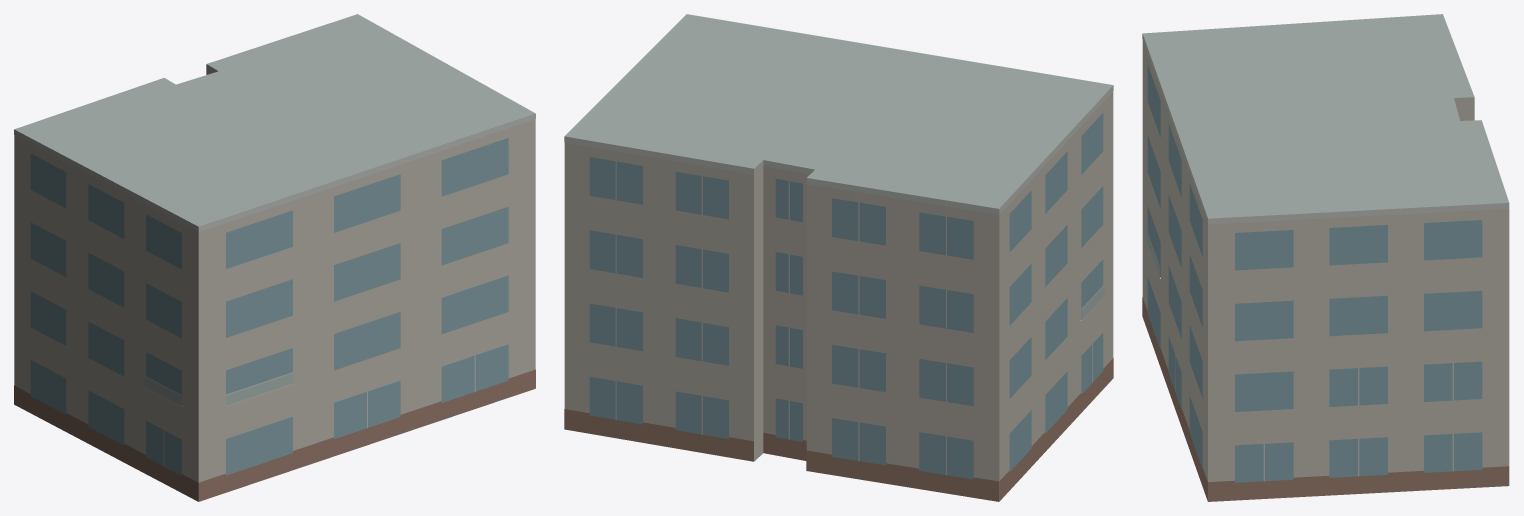
The model's file is survey-upis-32576958.glb.
3 views of the same model, side by side, from view 1: azimuth 30°, elevation 25°; view 2: azimuth 150°, elevation 25°; view 3: azimuth 270°, elevation 25° (orthographic). The views are drawn at different scales.
Visible parts, largest first — view 1: survey-upis-32576958.tmp; view 2: survey-upis-32576958.tmp; view 3: survey-upis-32576958.tmp.
Part boxes in pixels (<box>): survey-upis-32576958.tmp: <box>14,14,535,501</box>; survey-upis-32576958.tmp: <box>564,14,1113,501</box>; survey-upis-32576958.tmp: <box>1142,14,1509,501</box>.
Size of the model in its own units: 18.7 by 12.06 by 14.17.
